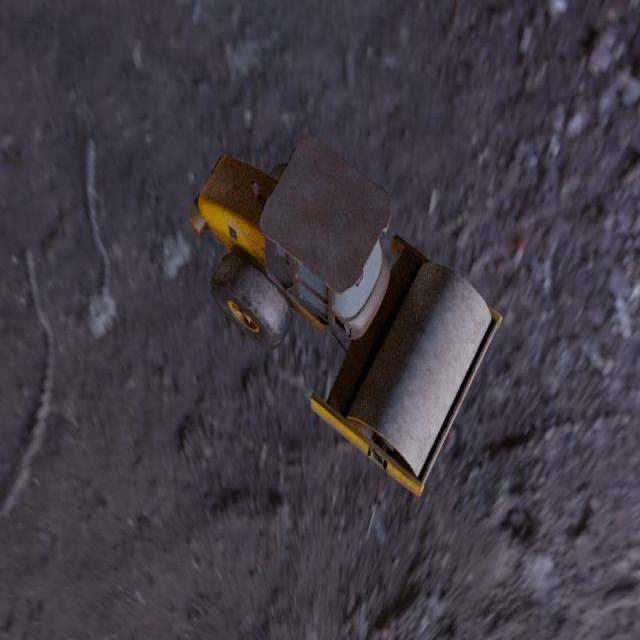Roller: (188, 135, 502, 497)
